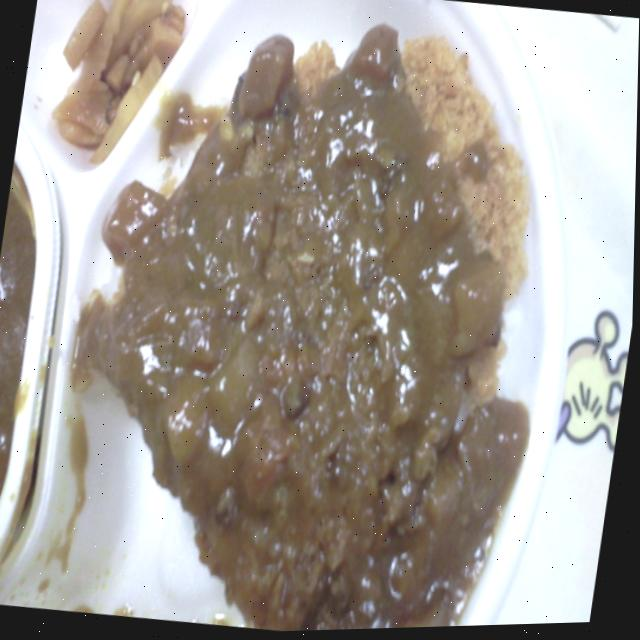牛肉菜式: (31, 0, 601, 639)
